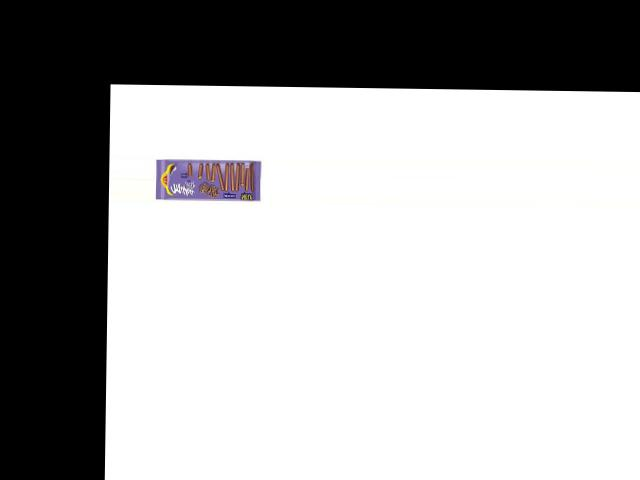chocolate: (154, 153, 263, 202)
